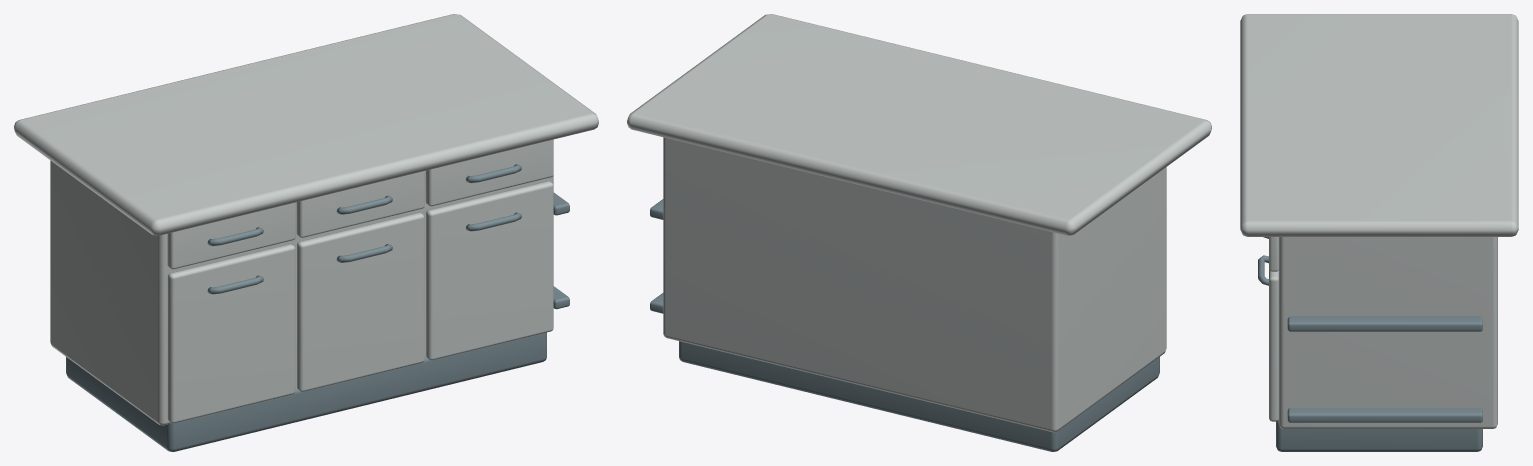
The model's file is kitchen-island.glb.
The picture shows the model from 3 angles, left to right: view 1: azimuth 30°, elevation 25°; view 2: azimuth 150°, elevation 25°; view 3: azimuth 270°, elevation 25°; orthographic projection. The views are drawn at different scales.
Parts seen in each view (by area): view 1: countertop, cabinet, door_-0.49, door_0.49, door_0, plinth, drawer_-0.49, drawer_0, drawer_0.49; view 2: cabinet, countertop, plinth; view 3: countertop, cabinet, plinth, end_shelf_0.52, end_shelf_0.18, door_0.49, drawer_0.49.
Part boxes in pixels (x1,y1,x2,y2): countertop: [14, 14, 598, 235]; cabinet: [50, 160, 553, 425]; door_-0.49: [167, 244, 295, 423]; door_0.49: [426, 181, 553, 360]; door_0: [297, 212, 424, 391]; plinth: [66, 332, 546, 451]; drawer_-0.49: [167, 202, 295, 269]; drawer_0: [296, 171, 424, 237]; drawer_0.49: [425, 139, 553, 206]; cabinet: [663, 137, 1166, 432]; countertop: [627, 14, 1211, 235]; plinth: [679, 341, 1159, 451]; countertop: [1240, 14, 1518, 236]; cabinet: [1279, 237, 1497, 428]; plinth: [1276, 419, 1482, 451]; end_shelf_0.52: [1287, 316, 1482, 331]; end_shelf_0.18: [1287, 408, 1482, 422]; door_0.49: [1269, 269, 1278, 421]; drawer_0.49: [1269, 237, 1278, 271].
Bounding box in the file's own units: 1.7 × 0.92 × 0.94.
